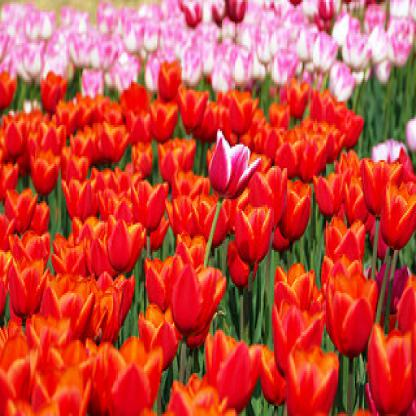TULIP: (18, 25, 401, 402)
